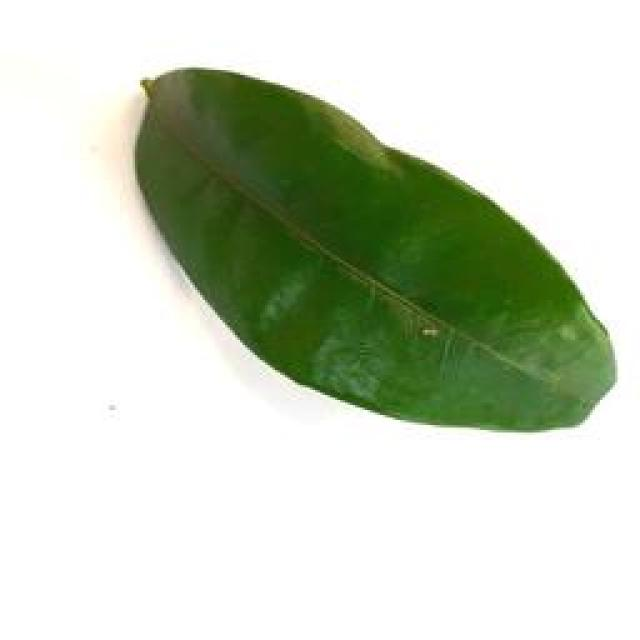Healthy: (129, 56, 619, 436)
